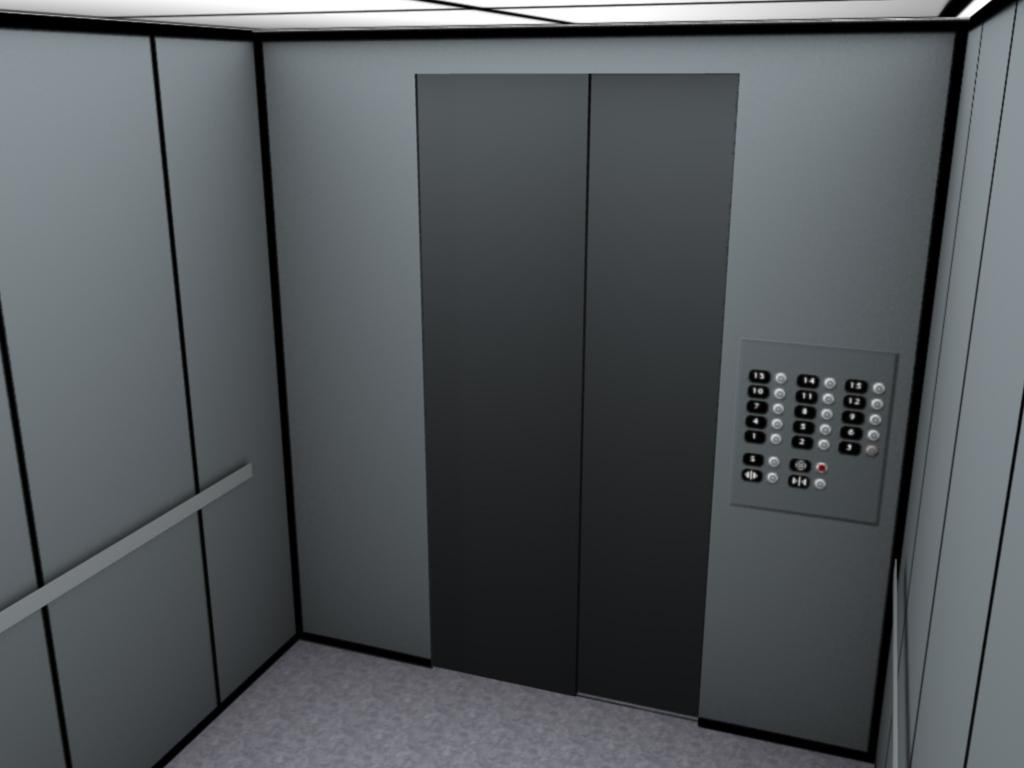1: (743, 429, 768, 445)
10: (747, 385, 770, 399)
11: (794, 389, 819, 403)
12: (842, 395, 868, 409)
13: (748, 368, 772, 383)
14: (796, 372, 821, 388)
2: (791, 435, 815, 450)
3: (837, 441, 863, 456)
4: (744, 415, 768, 429)
7: (746, 400, 769, 414)
blur: (788, 456, 813, 472), (742, 451, 766, 467), (840, 410, 867, 424), (843, 379, 870, 393), (792, 419, 816, 434), (793, 403, 817, 418), (839, 426, 865, 439), (816, 462, 828, 473)
close: (787, 474, 810, 488)
empty: (865, 444, 879, 458), (872, 381, 885, 395), (773, 387, 786, 400), (771, 402, 784, 415), (822, 393, 835, 406), (870, 398, 883, 411), (820, 408, 834, 420), (817, 439, 831, 451), (775, 372, 787, 385), (770, 418, 783, 430), (770, 433, 782, 446), (869, 414, 882, 426), (867, 429, 880, 441), (824, 377, 836, 389), (819, 423, 831, 435), (768, 456, 780, 468), (767, 472, 779, 484), (814, 478, 826, 490)
open: (740, 468, 763, 482)
